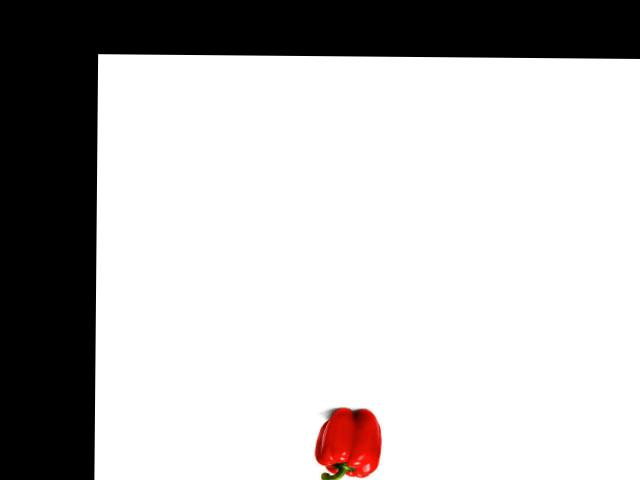bell_pepper: (314, 406, 383, 480)
